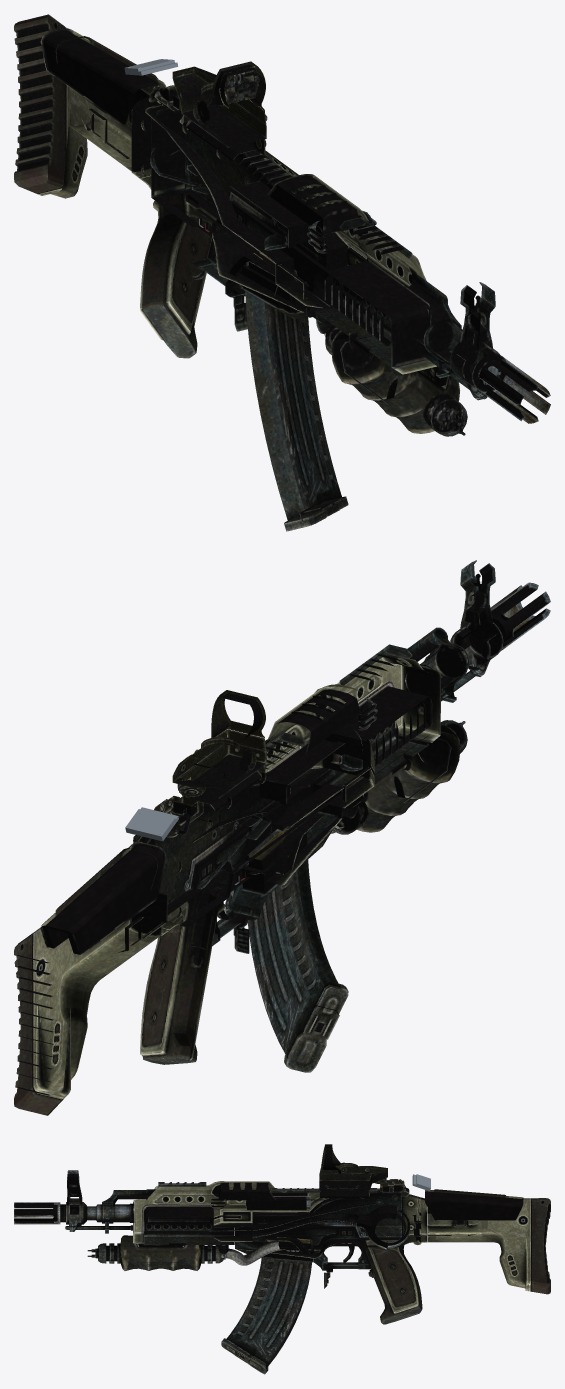
Rendered from valkyrie_diegetic_v2.glb.
The picture shows the model from 3 angles, top to bottom: view 1: azimuth 30°, elevation 25°; view 2: azimuth 150°, elevation 25°; view 3: azimuth 270°, elevation 25°; orthographic projection. The views are drawn at different scales.
Visible parts, largest first — view 1: geometry_0; view 2: geometry_0, geometry_1; view 3: geometry_0.
Boxes of the visible parts, x1=… form: geometry_0: x1=14, y1=14, x2=550, y2=531; geometry_0: x1=14, y1=560, x2=550, y2=1115; geometry_1: x1=125, y1=807, x2=178, y2=841; geometry_0: x1=14, y1=1144, x2=550, y2=1374.
Size of the model in its own units: 7.53 by 30.61 by 66.7.
5 materials, 1 textured.
